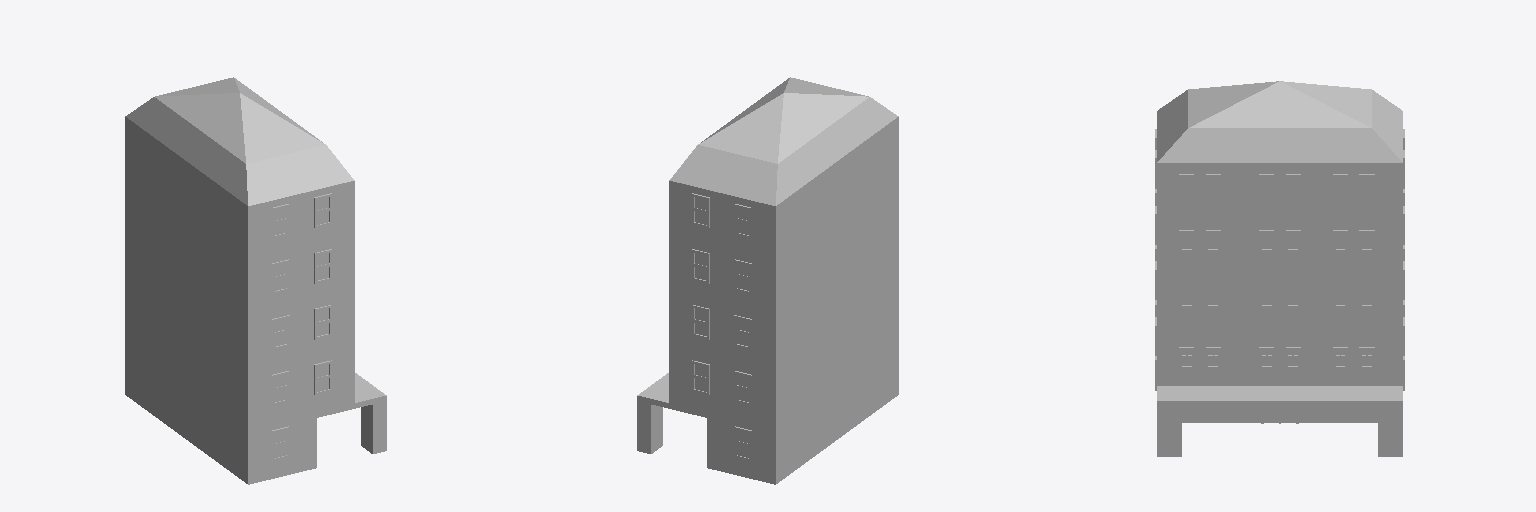
File: Building 01.obj
3 views of the same model, side by side, from view 1: azimuth 30°, elevation 25°; view 2: azimuth 150°, elevation 25°; view 3: azimuth 270°, elevation 25° (orthographic).
Size of the model in its own units: 2.6 by 6 by 4.06.